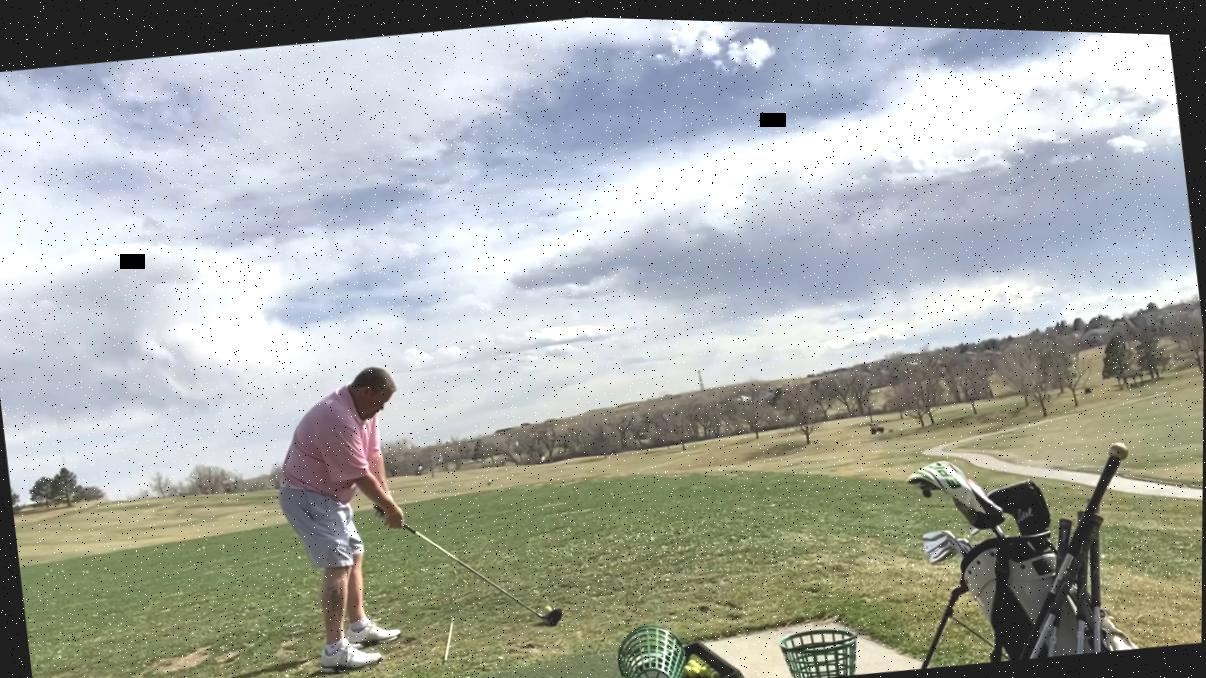ClubHead: (534, 599, 571, 630)
